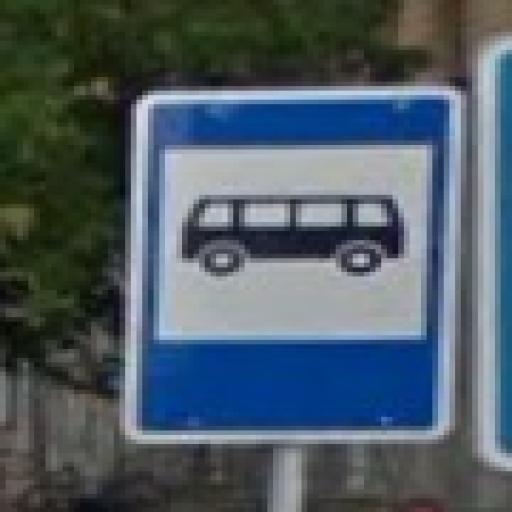traffic_sign: (126, 87, 468, 445)
